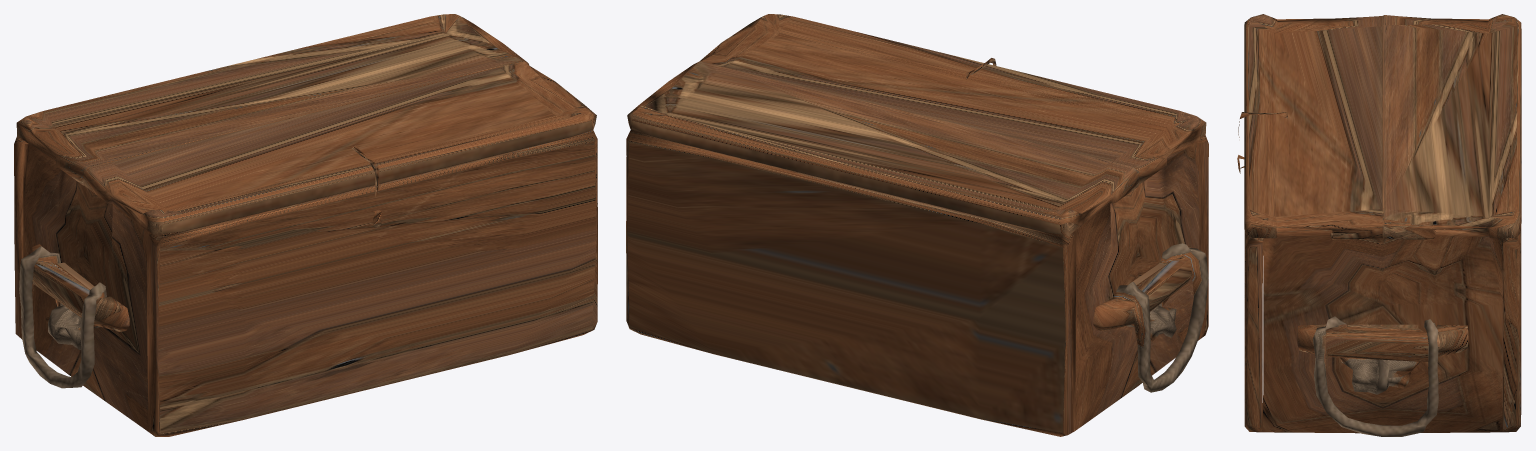
Rendered from wooden_crate_01.glb.
3 renders of one model, left to right at view 1: azimuth 30°, elevation 25°; view 2: azimuth 150°, elevation 25°; view 3: azimuth 270°, elevation 25°, orthographic. The views are drawn at different scales.
Visible parts, largest first — view 1: wooden_crate_01; view 2: wooden_crate_01; view 3: wooden_crate_01.
Boxes of the visible parts, <box> form: wooden_crate_01: <box>14,14,597,436</box>; wooden_crate_01: <box>626,14,1208,436</box>; wooden_crate_01: <box>1237,14,1521,436</box>.
Size of the model in its own units: 0.8168 by 0.3426 by 0.4019.
1 material, 1 textured.
